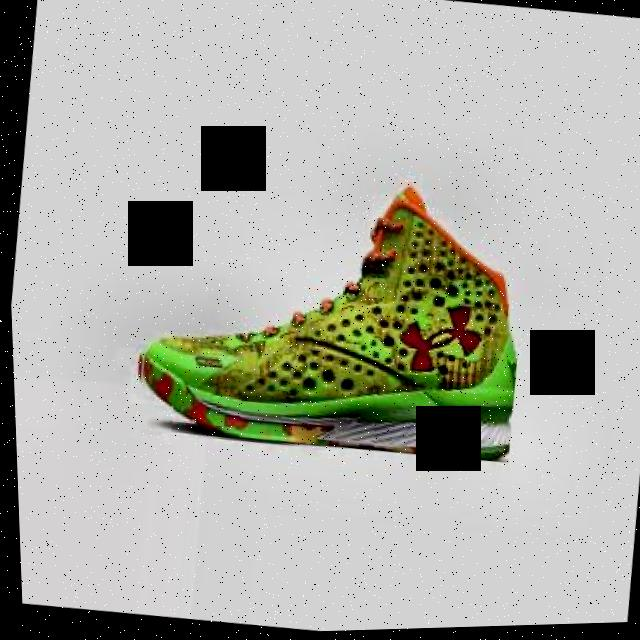shoe: (120, 145, 538, 474)
